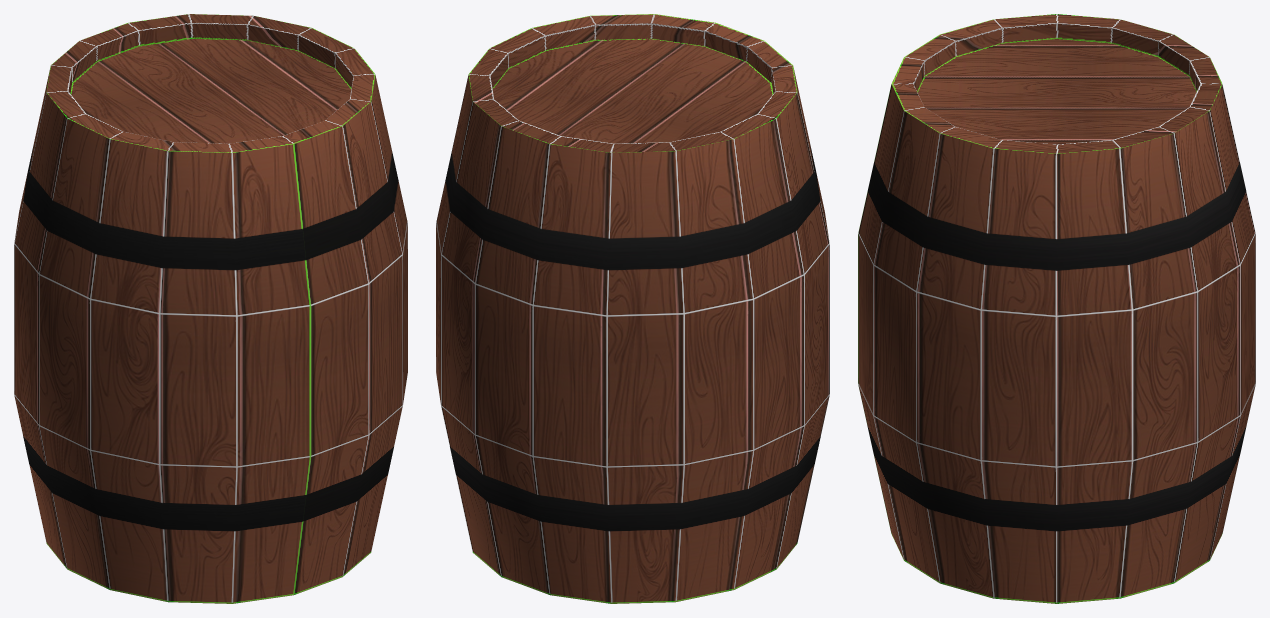
File: drum.fbx
3 views of the same model, side by side, from view 1: azimuth 30°, elevation 25°; view 2: azimuth 150°, elevation 25°; view 3: azimuth 270°, elevation 25° (orthographic).
Parts seen in each view (by area): view 1: Cylinder001; view 2: Cylinder001; view 3: Cylinder001.
Part boxes in pixels (left/top/right/bottom): Cylinder001: left=14, top=14, right=407, bottom=603; Cylinder001: left=436, top=14, right=829, bottom=603; Cylinder001: left=858, top=14, right=1255, bottom=603.
Size of the model in its own units: 120 by 150 by 120.
